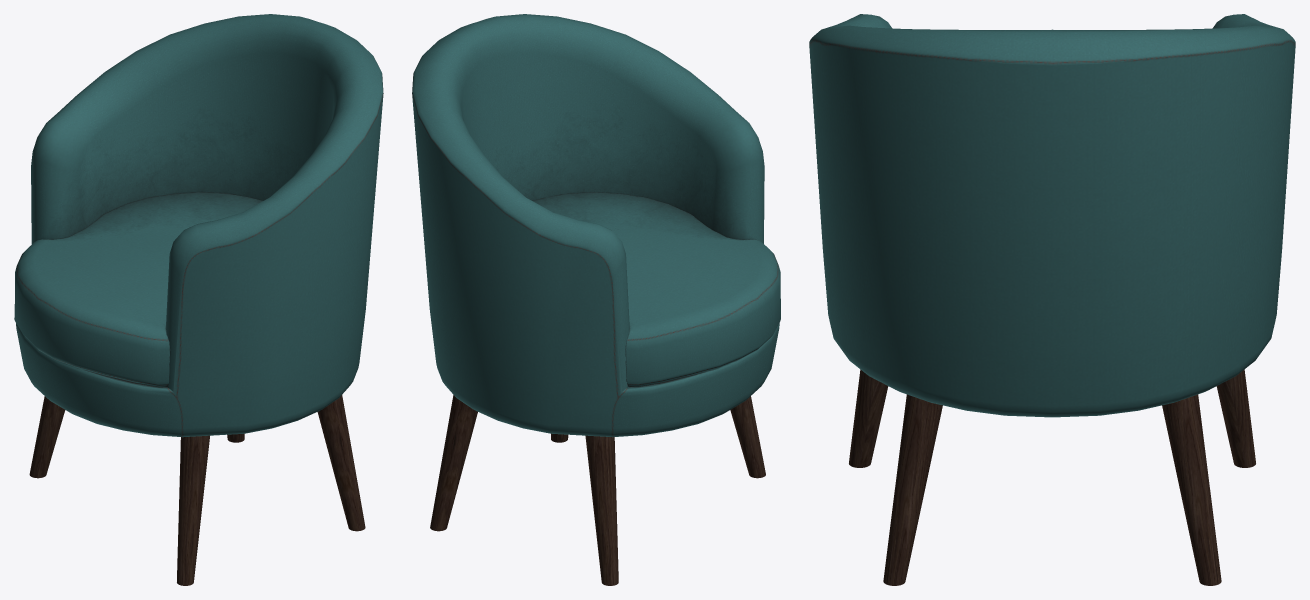
Rendered from SM_BlueShellFotelS.fbx.
3 views of the same model, side by side, from view 1: azimuth 30°, elevation 25°; view 2: azimuth 150°, elevation 25°; view 3: azimuth 270°, elevation 25° (orthographic). The views are drawn at different scales.
Parts seen in each view (by area): view 1: SM_BlueShellFotelS_LOD0; view 2: SM_BlueShellFotelS_LOD0; view 3: SM_BlueShellFotelS_LOD0.
Part boxes in pixels (<box>): SM_BlueShellFotelS_LOD0: <box>14,14,383,585</box>; SM_BlueShellFotelS_LOD0: <box>412,14,780,585</box>; SM_BlueShellFotelS_LOD0: <box>809,14,1295,585</box>.
Bounding box in the file's own units: 93.25 × 92.79 × 121.
Materials: 1 (1 with a texture image).
